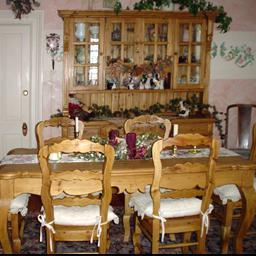Puerta: (1, 16, 36, 145)
